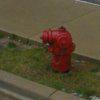Hydrant: (33, 18, 76, 81)
